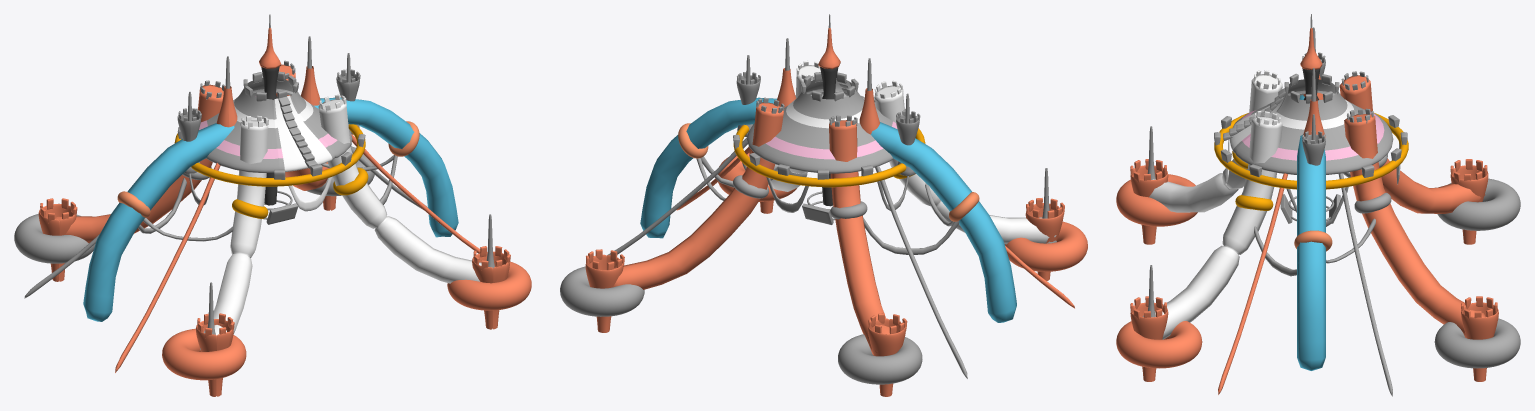
File: testScaleDome.fbx
The picture shows the model from 3 angles, left to right: view 1: azimuth 30°, elevation 25°; view 2: azimuth 150°, elevation 25°; view 3: azimuth 270°, elevation 25°; orthographic projection.
Parts seen in each view (by area): view 1: pointLight3; view 2: pointLight3; view 3: pointLight3.
Part boxes in pixels (x1,y1,x2,y2): pointLight3: [14, 14, 531, 396]; pointLight3: [560, 14, 1087, 396]; pointLight3: [1116, 14, 1520, 396].
Bounding box in the file's own units: 16.17 × 11.16 × 13.87.
